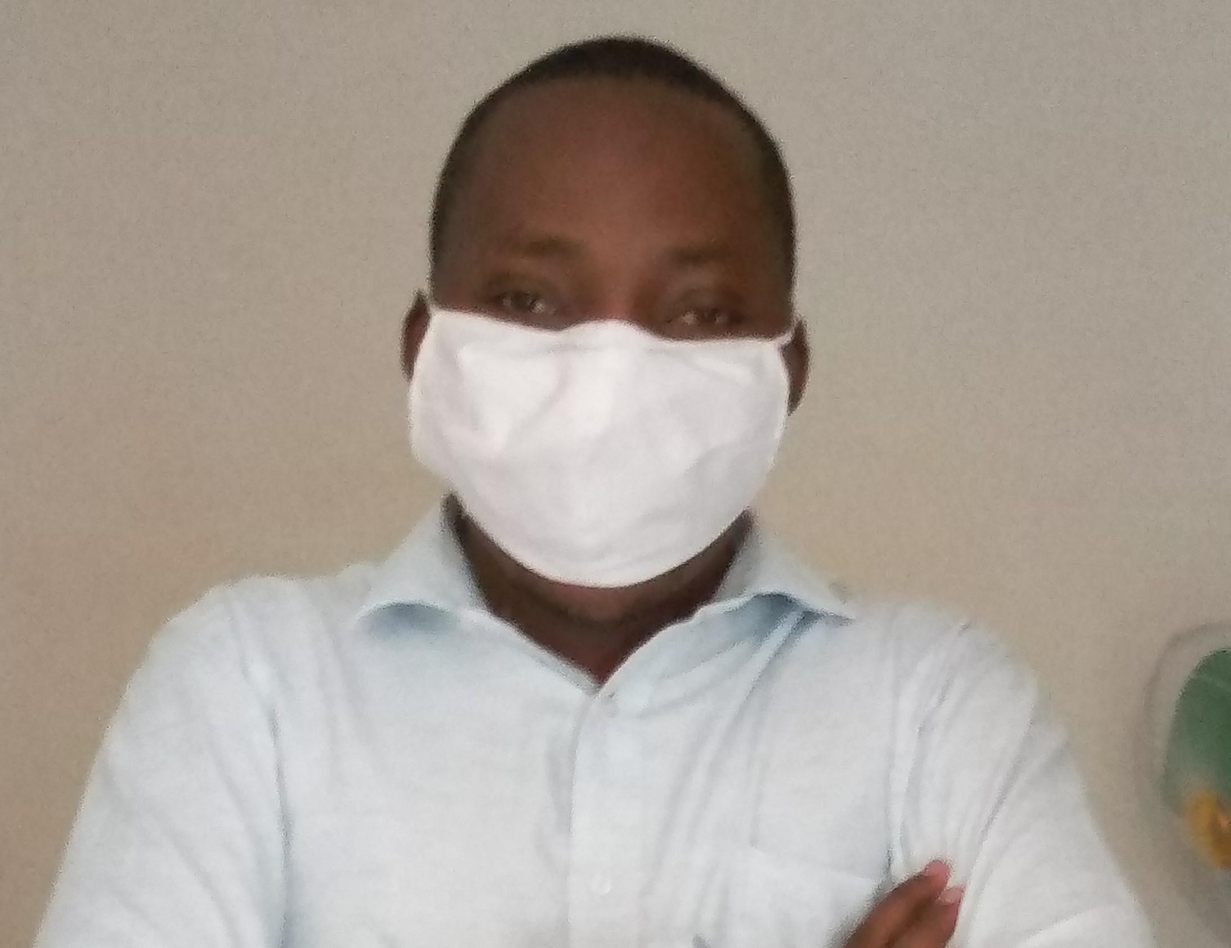Wearing Mask: (383, 35, 830, 629)
